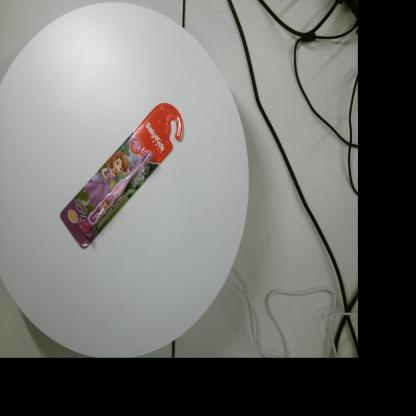Personal Hygiene: (60, 102, 183, 248)
